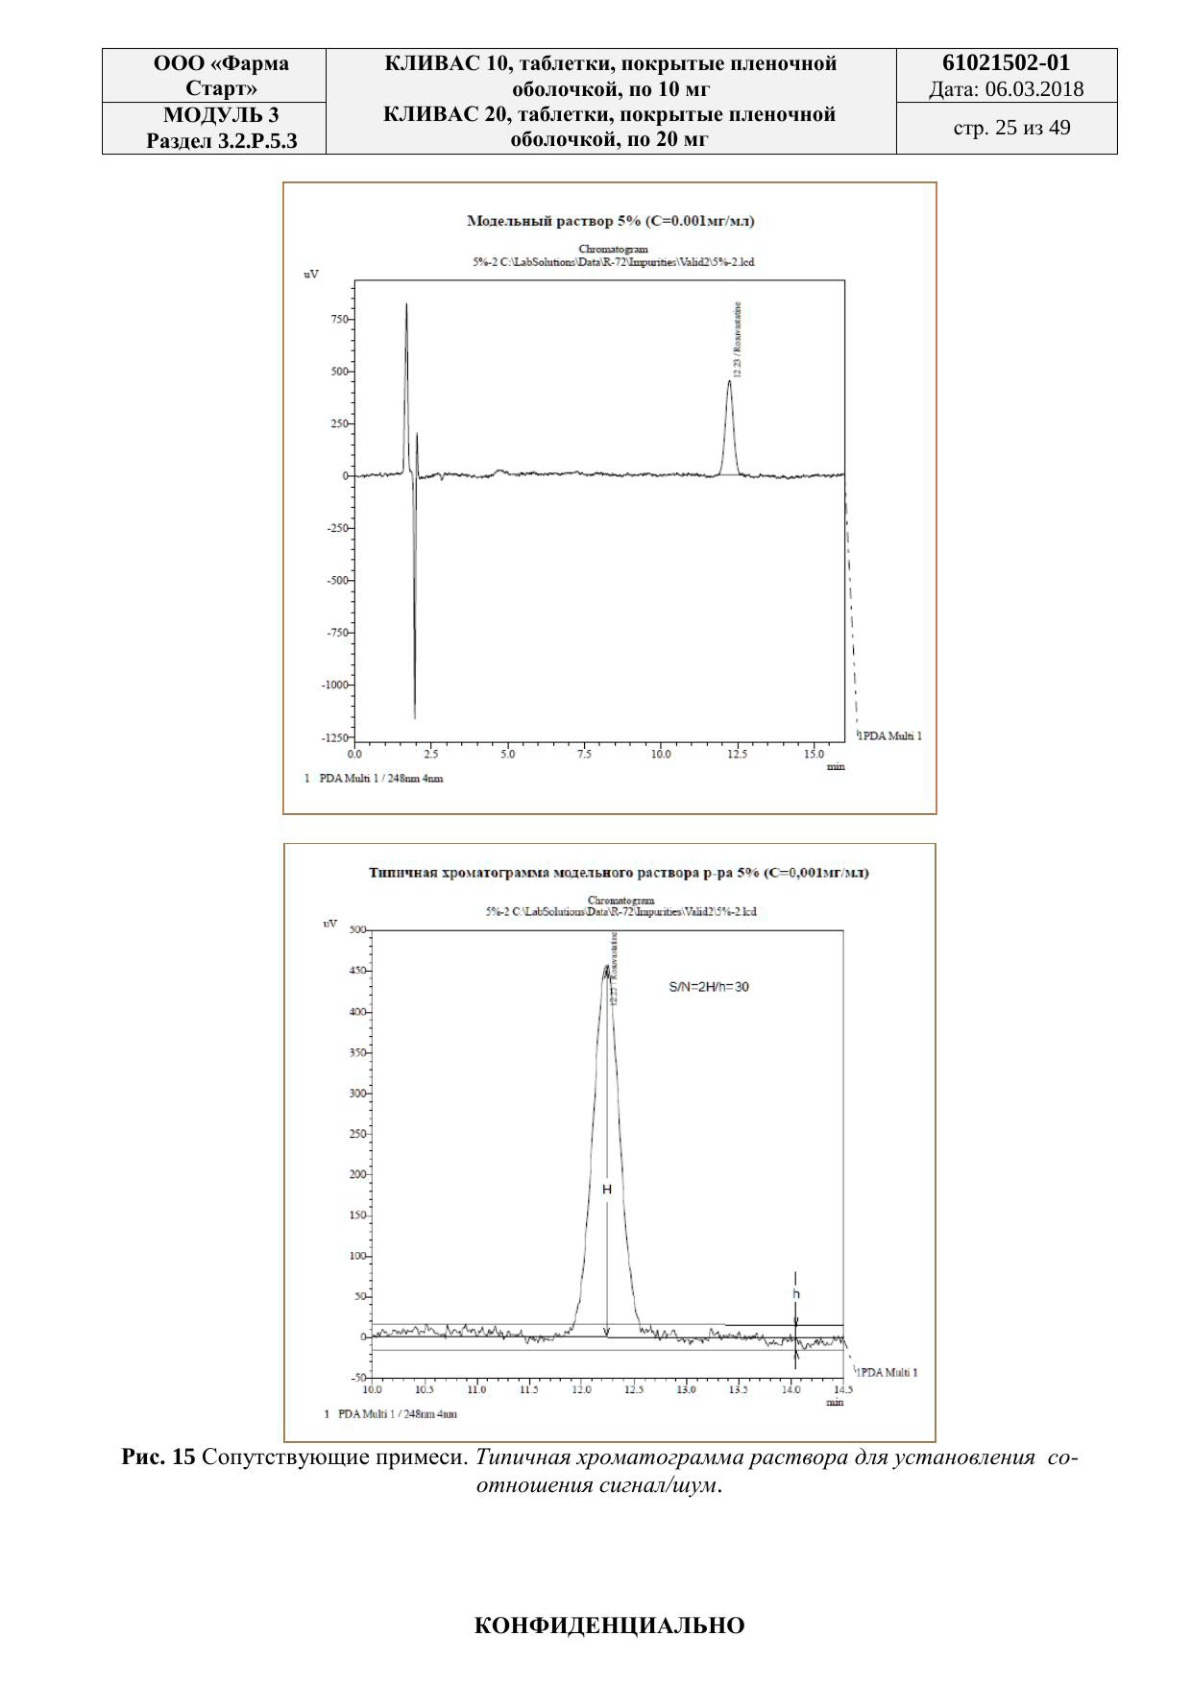merged_cells: (101, 46, 1118, 155)
